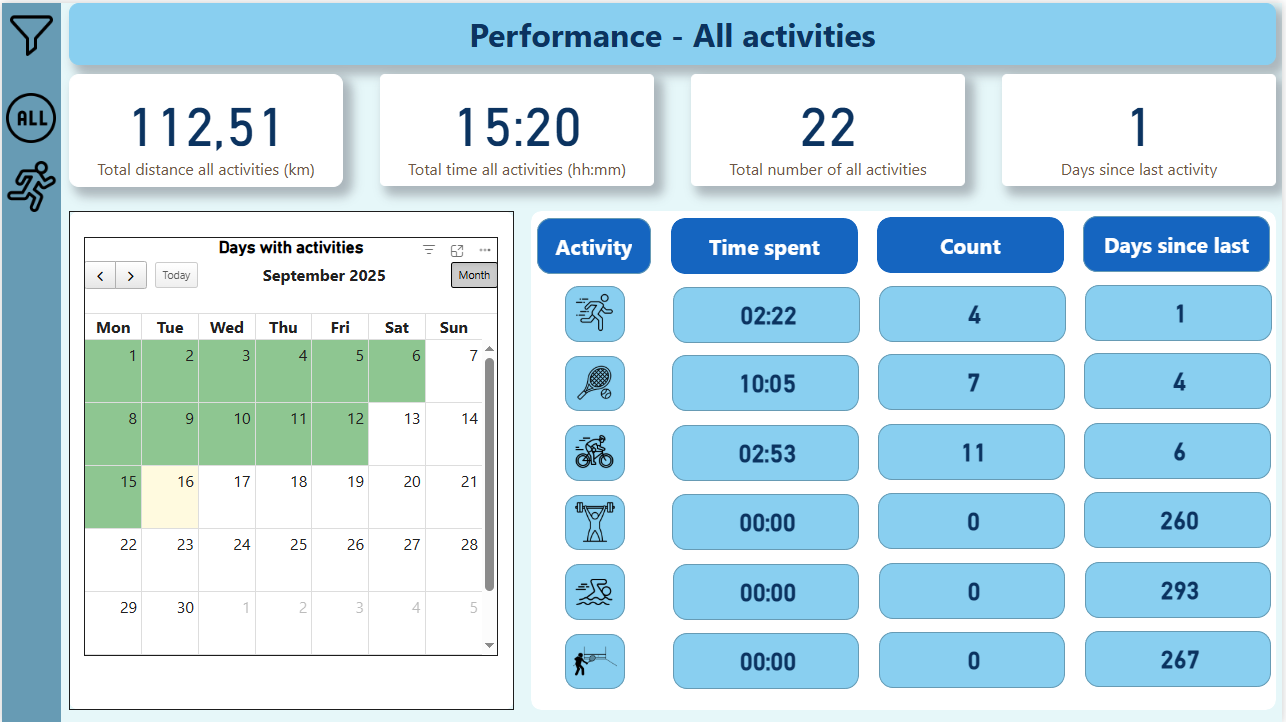

The page's visual inventory and layout, read from the dashboard file:
{"tool":"powerbi","page":{"name":"All","canvas":[1280,720],"ordinal":0},"visuals":[{"type":"card","fields":{"Values":["strava_activities_detailed_final.Total distance all activities (km)"]},"box":[67.3,70.9,273.7,112.2],"z":0,"group":"g19"},{"type":"shape","title":"Background","box":[529.4,207.7,745.2,498.6],"z":0,"group":"g25"},{"type":"shape","title":"Background","box":[67.2,208.2,444.8,499.1],"z":0,"group":"g20"},{"type":"shape","title":"Time spent","box":[1081.8,212.5,187.5,55.6],"z":0,"group":"g23"},{"type":"shape","title":"Time spent","box":[875.4,213.4,187.5,55.6],"z":0,"group":"g22"},{"type":"shape","title":"Time spent","box":[669.1,214.3,187.5,55.6],"z":0,"group":"g21"},{"type":"shape","box":[1083.5,281.1,187.5,55.6],"z":0,"group":"g1"},{"type":"shape","box":[877.1,282,187.5,55.6],"z":0,"group":"g2"},{"type":"shape","box":[563.1,282.8,60.8,55.6],"z":0,"group":"g24"},{"type":"shape","box":[670.8,282.9,187.5,55.6],"z":0,"group":"g3"},{"type":"shape","box":[1082.9,349.5,187.5,55.6],"z":0,"group":"g4"},{"type":"shape","box":[876.5,350.4,187.5,55.6],"z":0,"group":"g5"},{"type":"shape","box":[670.2,351.3,187.5,55.6],"z":0,"group":"g6"},{"type":"shape","box":[1082.9,419.1,187.5,55.6],"z":0,"group":"g7"},{"type":"shape","box":[876.5,420,187.5,55.6],"z":0,"group":"g8"},{"type":"shape","box":[670.2,420.9,187.5,55.6],"z":0,"group":"g9"},{"type":"shape","box":[1082.9,488.6,187.5,55.6],"z":0,"group":"g10"},{"type":"shape","box":[876.5,489.5,187.5,55.6],"z":0,"group":"g11"},{"type":"shape","box":[670.2,490.4,187.5,55.6],"z":0,"group":"g12"},{"type":"shape","box":[1083.5,558.2,186.3,55.6],"z":0,"group":"g13"},{"type":"shape","box":[877.1,559.1,186.3,55.6],"z":0,"group":"g14"},{"type":"shape","box":[670.8,560,186.3,55.6],"z":0,"group":"g15"},{"type":"shape","box":[1083.5,627.7,186.3,55.6],"z":0,"group":"g16"},{"type":"shape","box":[877.1,628.6,186.3,55.6],"z":0,"group":"g17"},{"type":"shape","box":[670.8,629.5,186.3,55.6],"z":0,"group":"g18"},{"type":"shape","title":"SidePanel","box":[0,0,59,720.1],"z":1000},{"type":"card","fields":{"Values":["strava_activities_detailed_final.Total time all activities (hh:mm)"]},"box":[378,70.6,273.9,112.4],"z":1000,"group":"g19"},{"type":"calendarVisual74934D05B71F4C31B0F79D925EE89638","title":"Days with activities","fields":{"StartDate":["strava_activities_detailed_final.start_date"],"events":["dates.ActivitiesPerDay"],"CellColor":["dates.ActivitiesPerDay"]},"box":[82,234.5,414.6,419.2],"z":1000,"group":"g20"},{"type":"group","id":"g1","title":"Group 1","box":[1083.5,281.1,187.1,55.5],"z":1000,"group":"g23"},{"type":"group","id":"g2","title":"Group 1","box":[877.1,282,187.1,55.5],"z":1000,"group":"g22"},{"type":"group","id":"g3","title":"Group 1","box":[670.8,282.9,187.1,55.5],"z":1000,"group":"g21"},{"type":"card","fields":{"Values":["strava_activities_detailed_final.Days since last run"]},"box":[1100.9,285.7,156.9,45.3],"z":1000,"group":"g1"},{"type":"card","fields":{"Values":["strava_activities_detailed_final.Total number of runs"]},"box":[894.5,286.6,156.9,45.3],"z":1000,"group":"g2"},{"type":"card","fields":{"Values":["KPIs.Time spent Run (hh:mm)"]},"box":[688.2,287.5,156.9,45.3],"z":1000,"group":"g3"},{"type":"shape","box":[563.1,352.3,60.8,55.6],"z":1000,"group":"g24"},{"type":"card","fields":{"Values":["KPIs.Days since last Tennis"]},"box":[1100.3,354.1,156.9,45.3],"z":1000,"group":"g4"},{"type":"card","fields":{"Values":["KPIs.Activity count Tennis"]},"box":[893.9,355,156.9,45.3],"z":1000,"group":"g5"},{"type":"card","fields":{"Values":["KPIs.Time spent Tennis (hh:mm)"]},"box":[687.6,355.9,156.9,45.3],"z":1000,"group":"g6"},{"type":"card","fields":{"Values":["KPIs.Days since last Ride"]},"box":[1100.3,423.7,156.9,45.3],"z":1000,"group":"g7"},{"type":"card","fields":{"Values":["KPIs.Activity count Ride"]},"box":[893.9,424.6,156.9,45.3],"z":1000,"group":"g8"},{"type":"card","fields":{"Values":["KPIs.Time spent Ride (hh:mm)"]},"box":[687.6,425.5,156.9,45.3],"z":1000,"group":"g9"},{"type":"card","fields":{"Values":["KPIs.Days since last WeightTraining"]},"box":[1100.3,493.2,156.9,45.3],"z":1000,"group":"g10"},{"type":"card","fields":{"Values":["KPIs.Activity count WeightTraining"]},"box":[893.9,494.1,156.9,45.3],"z":1000,"group":"g11"},{"type":"card","fields":{"Values":["KPIs.Time spent WeightTraining (hh:mm)"]},"box":[687.6,495,156.9,45.3],"z":1000,"group":"g12"},{"type":"card","fields":{"Values":["KPIs.Days since last Swim"]},"box":[1100.8,562.8,156,45.3],"z":1000,"group":"g13"},{"type":"card","fields":{"Values":["KPIs.Activity count Swim"]},"box":[894.4,563.7,156,45.3],"z":1000,"group":"g14"},{"type":"card","fields":{"Values":["KPIs.Time spent Swim (hh:mm)"]},"box":[688.1,564.6,156,45.3],"z":1000,"group":"g15"},{"type":"card","fields":{"Values":["KPIs.Days since last Squash"]},"box":[1100.8,632.3,156,45.3],"z":1000,"group":"g16"},{"type":"card","fields":{"Values":["KPIs.Activity count Squash"]},"box":[894.4,633.2,156,45.3],"z":1000,"group":"g17"},{"type":"card","fields":{"Values":["KPIs.Time spent Squash (hh:mm)"]},"box":[688.1,634.1,156,45.3],"z":1000,"group":"g18"},{"type":"card","fields":{"Values":["strava_activities_detailed_final.Total number of all activities"]},"box":[689,70.6,273.9,112.4],"z":2000,"group":"g19"},{"type":"group","id":"g4","title":"Group 1","box":[1082.9,349.5,188.3,56.6],"z":2000,"group":"g23"},{"type":"group","id":"g5","title":"Group 1","box":[876.5,350.4,188.3,56.6],"z":2000,"group":"g22"},{"type":"group","id":"g6","title":"Group 1","box":[670.2,351.3,188.3,56.6],"z":2000,"group":"g21"},{"type":"shape","box":[563.1,421.9,60.8,55.6],"z":2000,"group":"g24"},{"type":"actionButton","box":[0,0,58.7,61.5],"z":3000},{"type":"card","fields":{"Values":["strava_activities_detailed_final.Days since last activity"]},"box":[1000.1,70.6,273.9,112.4],"z":3000,"group":"g19"},{"type":"group","id":"g7","title":"Group 1","box":[1082.9,419.1,188.3,56.6],"z":3000,"group":"g23"},{"type":"group","id":"g8","title":"Group 1","box":[876.5,420,188.3,56.6],"z":3000,"group":"g22"},{"type":"group","id":"g9","title":"Group 1","box":[670.2,420.9,188.3,56.6],"z":3000,"group":"g21"},{"type":"shape","box":[563.1,491.4,60.8,55.6],"z":3000,"group":"g24"},{"type":"textbox","box":[67,0,1207,62.2],"z":4000},{"type":"group","id":"g10","title":"Group 1","box":[1082.9,488.6,188.3,56.6],"z":4000,"group":"g23"},{"type":"group","id":"g11","title":"Group 1","box":[876.5,489.5,188.3,56.6],"z":4000,"group":"g22"},{"type":"group","id":"g12","title":"Group 1","box":[670.2,490.4,188.3,56.6],"z":4000,"group":"g21"},{"type":"shape","box":[563.1,560.9,60.8,55.6],"z":4000,"group":"g24"},{"type":"actionButton","box":[0,85.6,58.6,58.6],"z":5000},{"type":"image","box":[565.6,285.1,54.3,48.5],"z":5000,"group":"g24"},{"type":"group","id":"g13","title":"Group 1","box":[1083.5,558.2,187.1,56.6],"z":5000,"group":"g23"},{"type":"group","id":"g14","title":"Group 1","box":[877.1,559.1,187.1,56.6],"z":5000,"group":"g22"},{"type":"group","id":"g15","title":"Group 1","box":[670.8,560,187.1,56.6],"z":5000,"group":"g21"},{"type":"actionButton","box":[0,154.4,58.6,58.6],"z":6000},{"type":"image","box":[565.6,354.4,54.3,49.7],"z":6000,"group":"g24"},{"type":"group","id":"g16","title":"Group 1","box":[1083.5,627.7,187.1,56.6],"z":6000,"group":"g23"},{"type":"group","id":"g17","title":"Group 1","box":[877.1,628.6,187.1,56.6],"z":6000,"group":"g22"},{"type":"group","id":"g18","title":"Group 1","box":[670.8,629.5,187.1,56.6],"z":6000,"group":"g21"},{"type":"group","id":"g19","title":"KPI cards","box":[67.3,70.6,1206.7,112.5],"z":7000},{"type":"image","box":[561,423.7,63.5,48.5],"z":7000,"group":"g24"},{"type":"shape","box":[563.1,630.4,60.8,55.6],"z":8000,"group":"g24"},{"type":"group","id":"g20","title":"Calendar","box":[67.2,208.2,444.8,499.1],"z":9000},{"type":"image","box":[565.6,493,55.5,52],"z":9000,"group":"g24"},{"type":"group","id":"g21","title":"Time spent col","box":[669.1,214.3,189.4,471.8],"z":10000,"group":"g25"},{"type":"image","box":[561,562.3,62.4,52],"z":10000,"group":"g24"},{"type":"group","id":"g22","title":"Count col","box":[875.4,213.4,189.5,472.5],"z":11000,"group":"g25"},{"type":"image","box":[559.8,630.5,67,54.3],"z":11000,"group":"g24"},{"type":"shape","box":[535.4,214.6,113.8,55.6],"z":11500,"group":"g24"},{"type":"group","id":"g23","title":"Days since last col","box":[1081.8,212.5,189.5,472.5],"z":12000,"group":"g25"},{"type":"group","id":"g24","title":"Activity col","box":[535.4,214.6,113.8,471.4],"z":13000,"group":"g25"},{"type":"group","id":"g25","title":"Activity table","box":[529.4,207.7,745.2,498.6],"z":13001}]}

Visuals, with their boxes in screenshot pixels (x1, y1, x2, y2), scaled from the page's 1280x720 canvas onto the 1286x722 screenshot:
card - strava_activities_detailed_final.Total distance all activities (km): bbox(68, 71, 343, 184)
"Background" shape: bbox(532, 208, 1281, 708)
"Background" shape: bbox(68, 209, 514, 709)
"Time spent" shape: bbox(1087, 213, 1275, 269)
"Time spent" shape: bbox(880, 214, 1068, 270)
"Time spent" shape: bbox(672, 215, 861, 271)
shape: bbox(1089, 282, 1277, 338)
shape: bbox(881, 283, 1070, 339)
shape: bbox(566, 284, 627, 339)
shape: bbox(674, 284, 862, 339)
shape: bbox(1088, 350, 1276, 406)
shape: bbox(881, 351, 1069, 407)
shape: bbox(673, 352, 862, 408)
shape: bbox(1088, 420, 1276, 476)
shape: bbox(881, 421, 1069, 477)
shape: bbox(673, 422, 862, 478)
shape: bbox(1088, 490, 1276, 546)
shape: bbox(881, 491, 1069, 547)
shape: bbox(673, 492, 862, 548)
shape: bbox(1089, 560, 1276, 616)
shape: bbox(881, 561, 1068, 616)
shape: bbox(674, 562, 861, 617)
shape: bbox(1089, 629, 1276, 685)
shape: bbox(881, 630, 1068, 686)
shape: bbox(674, 631, 861, 687)
"SidePanel" shape: bbox(0, 0, 59, 721)
card - strava_activities_detailed_final.Total time all activities (hh:mm): bbox(380, 71, 655, 184)
"Days with activities" calendarVisual74934D05B71F4C31B0F79D925EE89638: bbox(82, 235, 499, 656)
"Group 1" group: bbox(1089, 282, 1277, 338)
"Group 1" group: bbox(881, 283, 1069, 338)
"Group 1" group: bbox(674, 284, 862, 339)
card - strava_activities_detailed_final.Days since last run: bbox(1106, 286, 1264, 332)
card - strava_activities_detailed_final.Total number of runs: bbox(899, 287, 1056, 333)
card - KPIs.Time spent Run (hh:mm): bbox(691, 288, 849, 334)
shape: bbox(566, 353, 627, 409)
card - KPIs.Days since last Tennis: bbox(1105, 355, 1263, 401)
card - KPIs.Activity count Tennis: bbox(898, 356, 1056, 401)
card - KPIs.Time spent Tennis (hh:mm): bbox(691, 357, 848, 402)
card - KPIs.Days since last Ride: bbox(1105, 425, 1263, 470)
card - KPIs.Activity count Ride: bbox(898, 426, 1056, 471)
card - KPIs.Time spent Ride (hh:mm): bbox(691, 427, 848, 472)
card - KPIs.Days since last WeightTraining: bbox(1105, 495, 1263, 540)
card - KPIs.Activity count WeightTraining: bbox(898, 495, 1056, 541)
card - KPIs.Time spent WeightTraining (hh:mm): bbox(691, 496, 848, 542)
card - KPIs.Days since last Swim: bbox(1106, 564, 1263, 610)
card - KPIs.Activity count Swim: bbox(899, 565, 1055, 611)
card - KPIs.Time spent Swim (hh:mm): bbox(691, 566, 848, 612)
card - KPIs.Days since last Squash: bbox(1106, 634, 1263, 679)
card - KPIs.Activity count Squash: bbox(899, 635, 1055, 680)
card - KPIs.Time spent Squash (hh:mm): bbox(691, 636, 848, 681)
card - strava_activities_detailed_final.Total number of all activities: bbox(692, 71, 967, 184)
"Group 1" group: bbox(1088, 350, 1277, 407)
"Group 1" group: bbox(881, 351, 1070, 408)
"Group 1" group: bbox(673, 352, 863, 409)
shape: bbox(566, 423, 627, 479)
actionButton: bbox(0, 0, 59, 62)
card - strava_activities_detailed_final.Days since last activity: bbox(1005, 71, 1280, 184)
"Group 1" group: bbox(1088, 420, 1277, 477)
"Group 1" group: bbox(881, 421, 1070, 478)
"Group 1" group: bbox(673, 422, 863, 479)
shape: bbox(566, 493, 627, 549)
textbox: bbox(67, 0, 1280, 62)
"Group 1" group: bbox(1088, 490, 1277, 547)
"Group 1" group: bbox(881, 491, 1070, 548)
"Group 1" group: bbox(673, 492, 863, 549)
shape: bbox(566, 562, 627, 618)
actionButton: bbox(0, 86, 59, 145)
image: bbox(568, 286, 623, 335)
"Group 1" group: bbox(1089, 560, 1277, 617)
"Group 1" group: bbox(881, 561, 1069, 617)
"Group 1" group: bbox(674, 562, 862, 618)
actionButton: bbox(0, 155, 59, 214)
image: bbox(568, 355, 623, 405)
"Group 1" group: bbox(1089, 629, 1277, 686)
"Group 1" group: bbox(881, 630, 1069, 687)
"Group 1" group: bbox(674, 631, 862, 688)
"KPI cards" group: bbox(68, 71, 1280, 184)
image: bbox(564, 425, 627, 474)
shape: bbox(566, 632, 627, 688)
"Calendar" group: bbox(68, 209, 514, 709)
image: bbox(568, 494, 624, 547)
"Time spent col" group: bbox(672, 215, 863, 688)
image: bbox(564, 564, 626, 616)
"Count col" group: bbox(880, 214, 1070, 688)
image: bbox(562, 632, 630, 687)
shape: bbox(538, 215, 652, 271)
"Days since last col" group: bbox(1087, 213, 1277, 687)
"Activity col" group: bbox(538, 215, 652, 688)
"Activity table" group: bbox(532, 208, 1281, 708)
